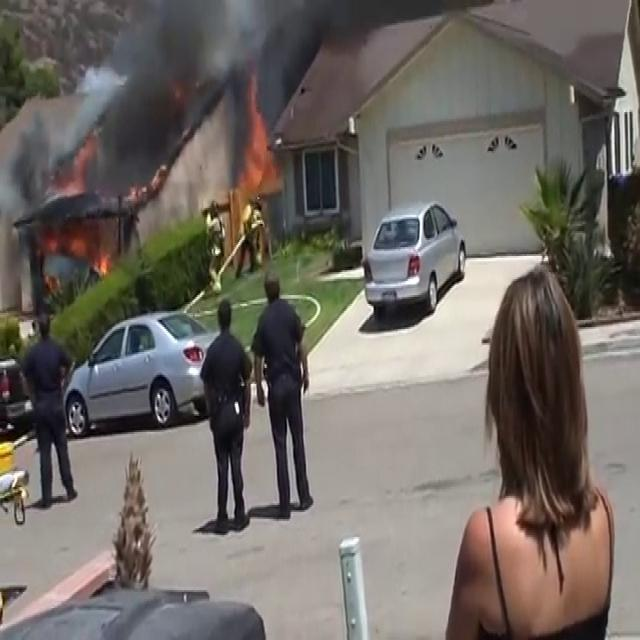Fire: (228, 82, 278, 218)
Smoke: (46, 0, 280, 169)
